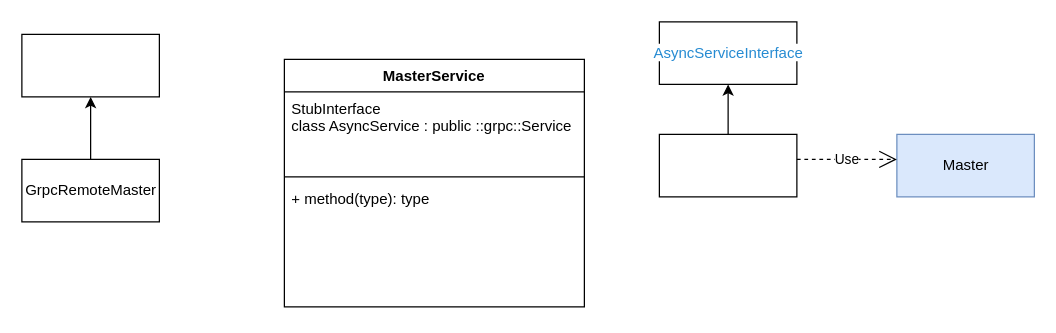
The diagram is 1056 pixels wide and 333 high, and some of its shapes have lost their labels. Here are the shapes that lost their labels. From the top down, the centre of each, then its label:
At [90,65]: "MasterInterface".
At [727,165]: "GrpcMasterService".
